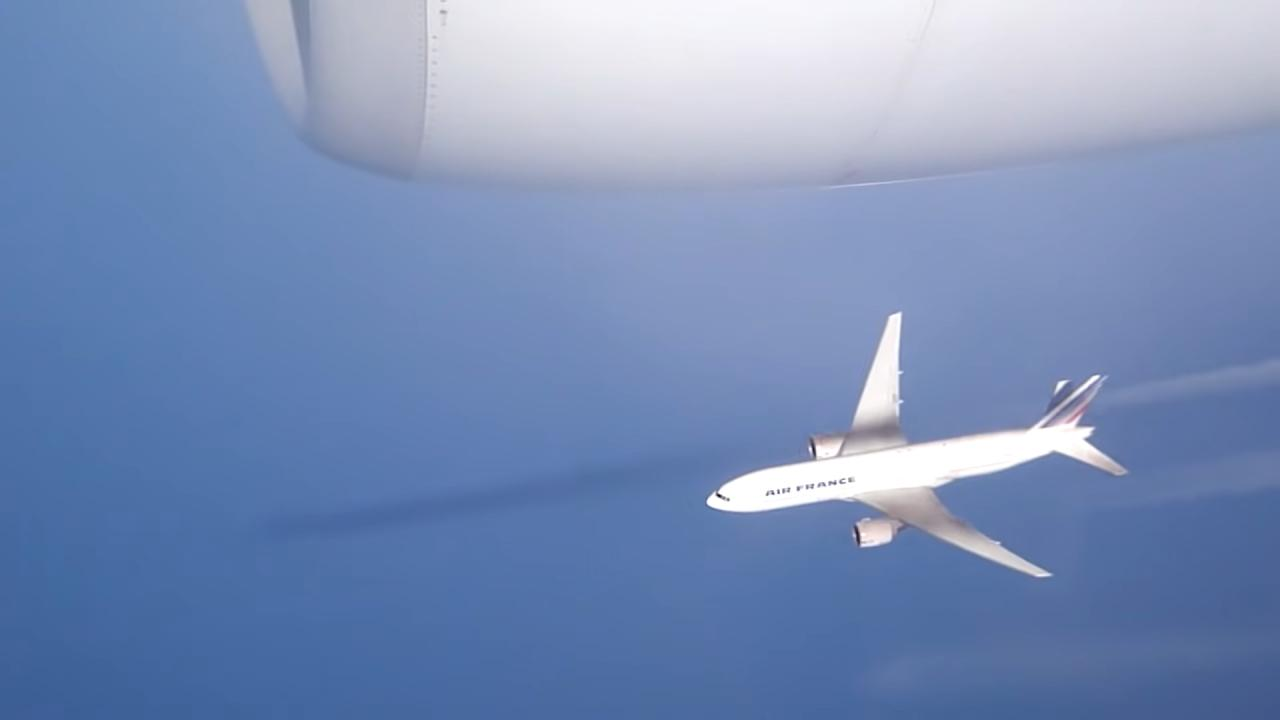Airplane: (692, 295, 1139, 594)
